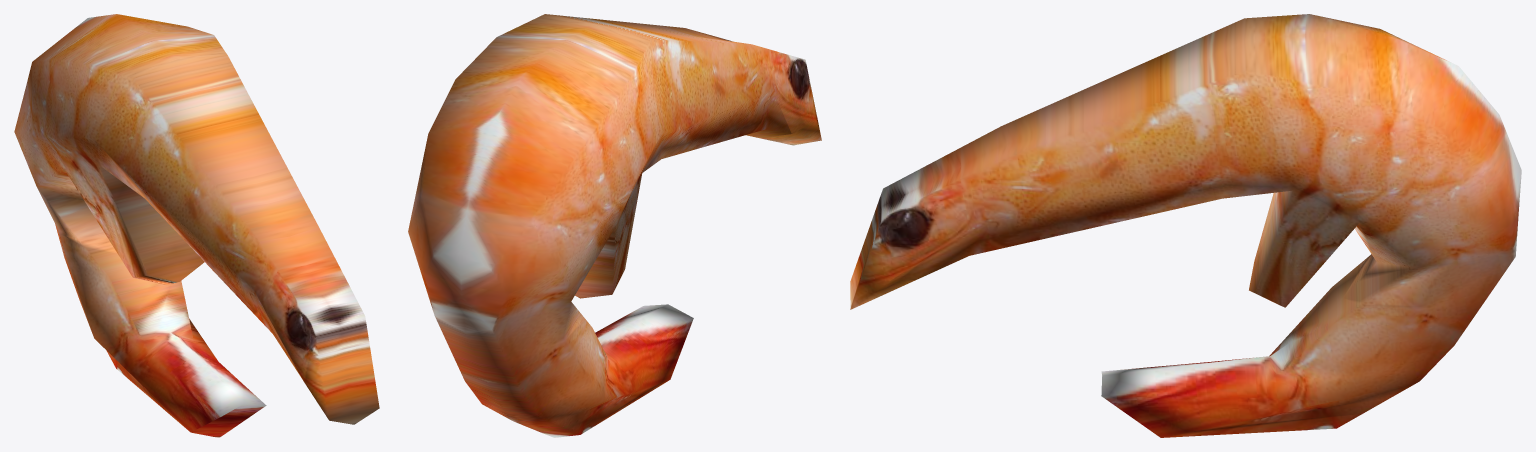
Rendered from SM_shrimp.fbx.
3 views of the same model, side by side, from view 1: azimuth 30°, elevation 25°; view 2: azimuth 150°, elevation 25°; view 3: azimuth 270°, elevation 25° (orthographic). The views are drawn at different scales.
Visible parts, largest first — view 1: pSphere1; view 2: pSphere1; view 3: pSphere1.
Part boxes in pixels (<box>): pSphere1: <box>14,14,379,437</box>; pSphere1: <box>408,14,821,437</box>; pSphere1: <box>850,14,1521,437</box>.
Size of the model in its own units: 1.69 by 3.6 by 5.47.
1 material, 1 textured.
